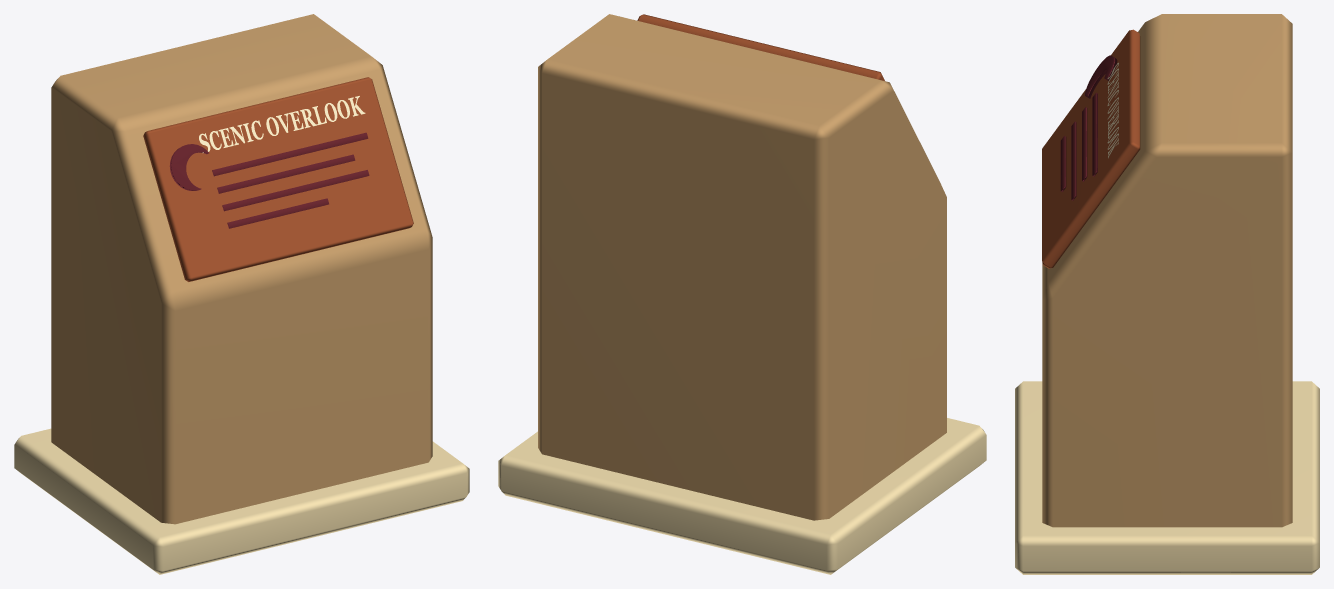
File: plaque_sign.glb
3 renders of one model, left to right at view 1: azimuth 30°, elevation 25°; view 2: azimuth 150°, elevation 25°; view 3: azimuth 270°, elevation 25°, orthographic. The views are drawn at different scales.
Parts seen in each view (by area): view 1: Plaque; view 2: Plaque; view 3: Plaque.
Part boxes in pixels (x1=…): Plaque: x1=14, y1=14, x2=469, y2=574; Plaque: x1=498, y1=14, x2=986, y2=574; Plaque: x1=1015, y1=14, x2=1319, y2=574.
Bounding box in the file's own units: 0.7 × 0.85 × 0.56.
